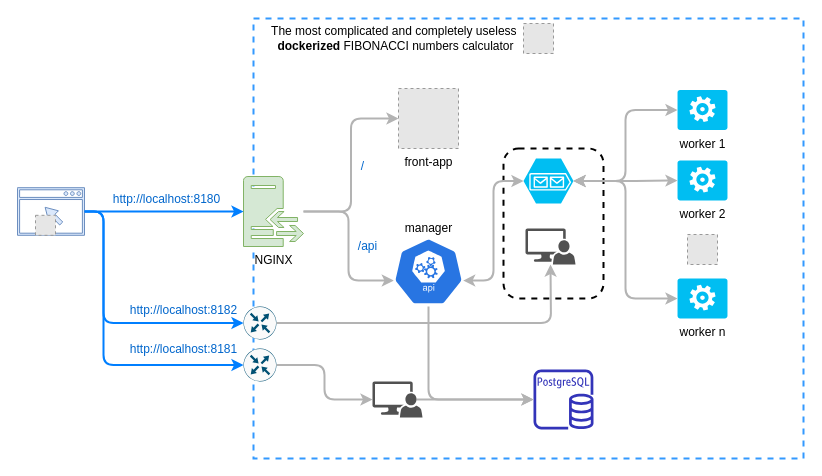
Some shapes in this 822 by 476 pixel diagram are drawn without their labels. Grey dashed boxes stand in for pictures. Here are the shapes that lost their labels. From the top down, the centre of each, then its label:
pixel 548 180: Artemis broker
pixel 550 246: Artemis Console
pixel 397 399: pg admin
